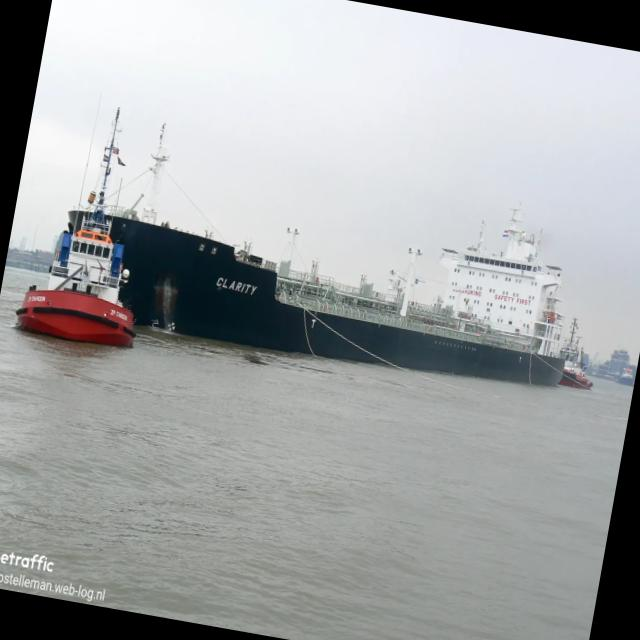Tanker: (110, 125, 564, 385)
Tug: (16, 108, 134, 346)
